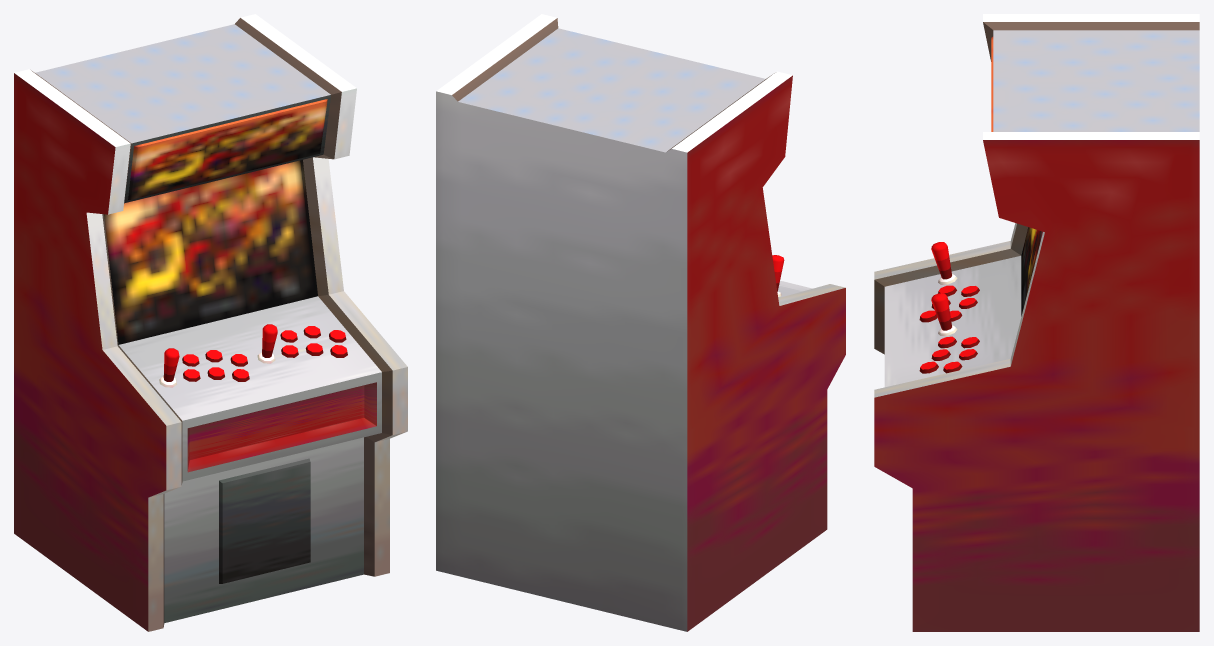
3 renders of one model, left to right at view 1: azimuth 30°, elevation 25°; view 2: azimuth 150°, elevation 25°; view 3: azimuth 270°, elevation 25°, orthographic. The views are drawn at different scales.
Visible parts, largest first — view 1: ArcadesAndPinball00; view 2: ArcadesAndPinball00; view 3: ArcadesAndPinball00.
Part boxes in pixels (box(x1,y1,x2,y2)): ArcadesAndPinball00: box(14, 14, 407, 631); ArcadesAndPinball00: box(436, 14, 845, 631); ArcadesAndPinball00: box(874, 14, 1199, 631).
Size of what is drawn, in the model's own units: 1.14 by 2.08 by 1.25.
1 material, 1 textured.
